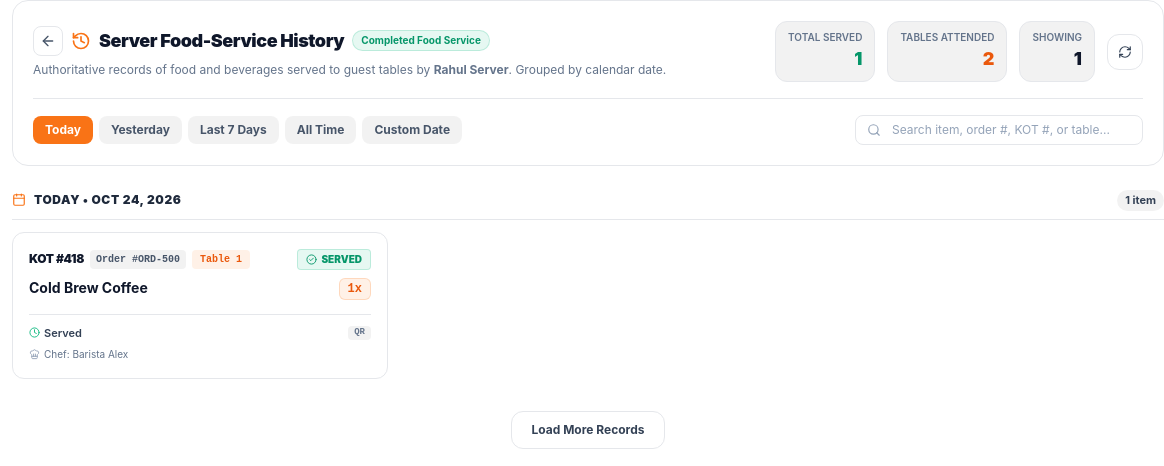
Test: Server Station — History Suite › 5. Pagination: 'Load More' appends older items without replacing current items
Check: the text "Cold Brew Coffee" is shown, box [29,278,148,297]
What coordinates should you click on to do the following:
click the button with test id "history-load-more-btn"
I would click on:
 (588, 430)
Its box is [510,411,666,449].
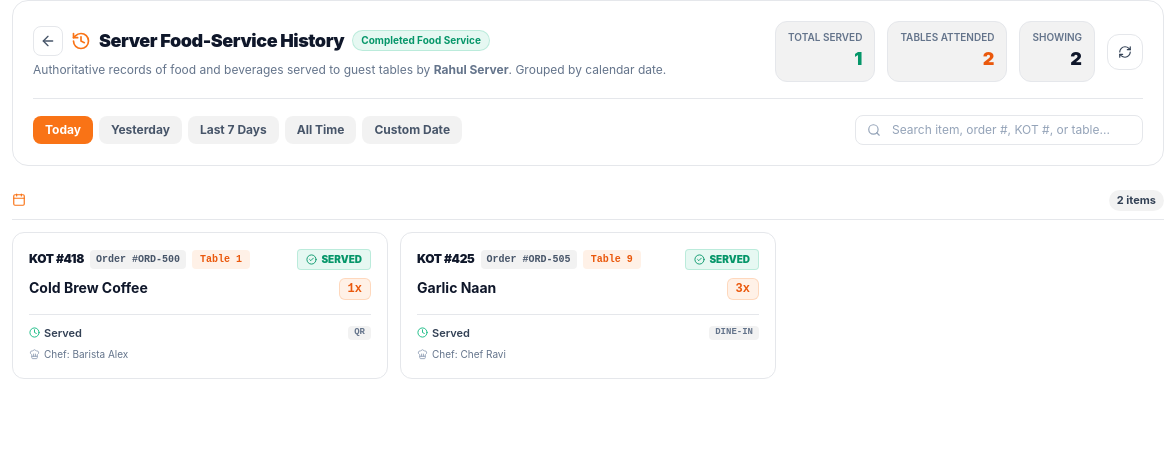
Check: the text "Cold Brew Coffee" is shown, box [29,278,148,297]
Check: the text "Garlic Naan" is shown, box [417,278,496,297]
